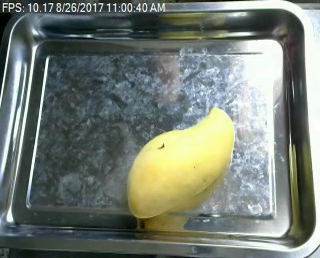Mango: (126, 105, 239, 219)
